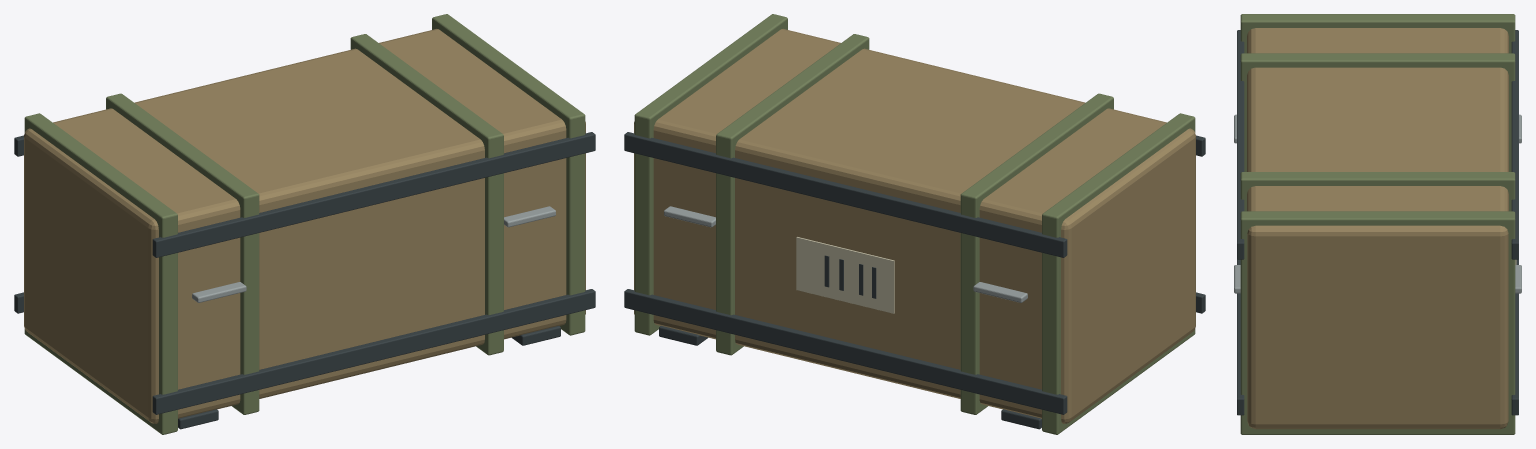
The model's file is supply_crate.glb.
3 views of the same model, side by side, from view 1: azimuth 30°, elevation 25°; view 2: azimuth 150°, elevation 25°; view 3: azimuth 270°, elevation 25° (orthographic).
Parts seen in each view (by area): view 1: supply_crate; view 2: supply_crate; view 3: supply_crate.
Part boxes in pixels (<box>): supply_crate: <box>14,14,595,434</box>; supply_crate: <box>624,14,1205,434</box>; supply_crate: <box>1234,14,1521,434</box>.
Bounding box in the file's own units: 2.7 × 1.29 × 1.54.
